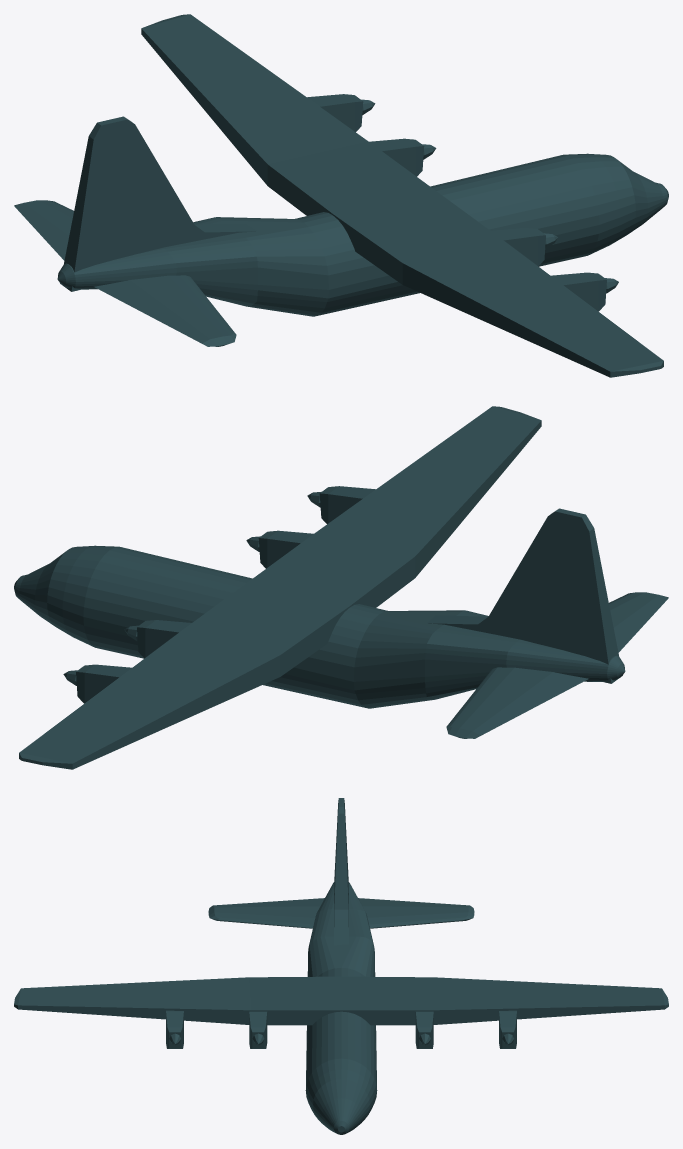
3 renders of one model, top to bottom at view 1: azimuth 30°, elevation 25°; view 2: azimuth 150°, elevation 25°; view 3: azimuth 270°, elevation 25°, orthographic. The views are drawn at different scales.
Parts seen in each view (by area): view 1: Cube; view 2: Cube; view 3: Cube.
Boxes of the visible parts, x1,y1,x2,y2 form: Cube: [14, 14, 668, 377]; Cube: [14, 406, 668, 769]; Cube: [14, 798, 668, 1134].
Size of the model in its own units: 29.05 by 11.16 by 39.63.
Materials: 1 (1 with a texture image).
